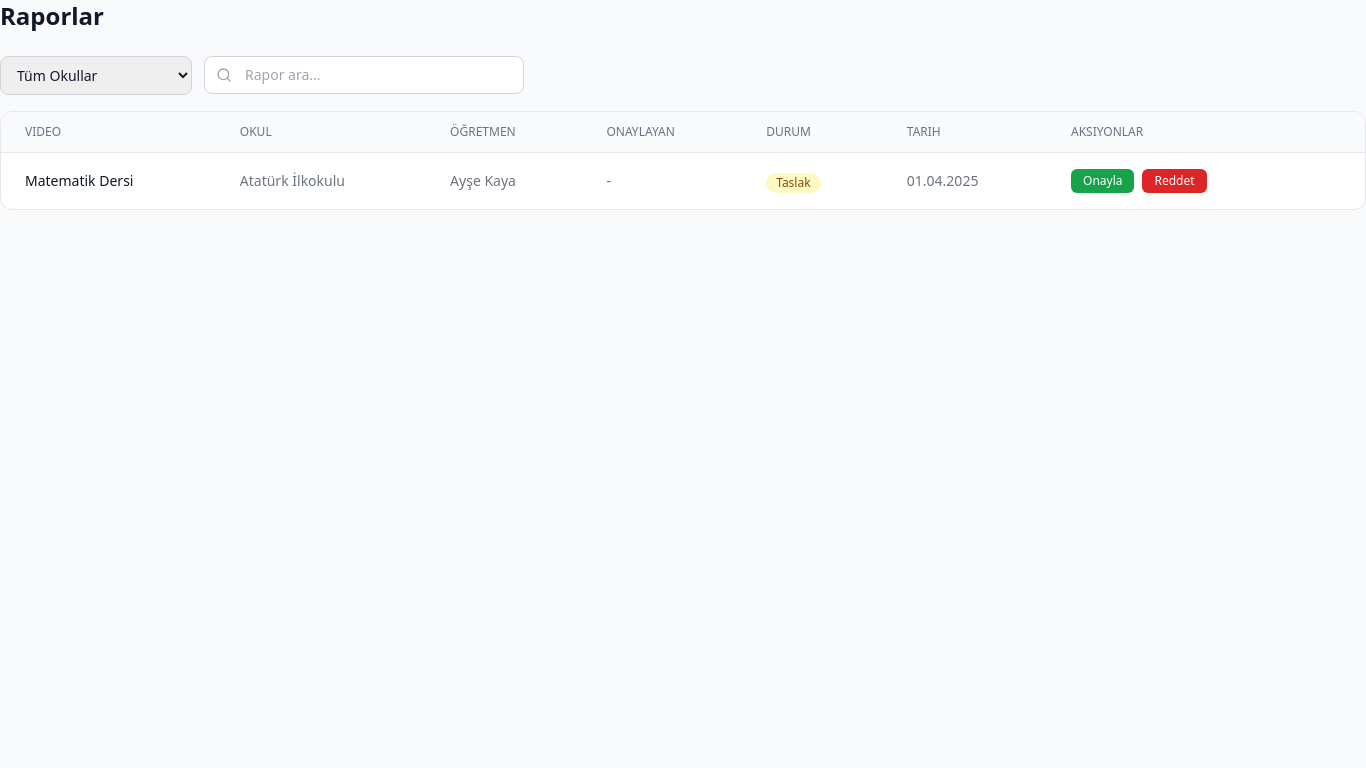
Scenario: ReportsPage › Reddet modalı › Reddet butonuna tıklayınca modal açılır
The image size is (1366, 768).
Click the button "Reddet" at (1175, 181), box left=1142, top=169, right=1207, bottom=193
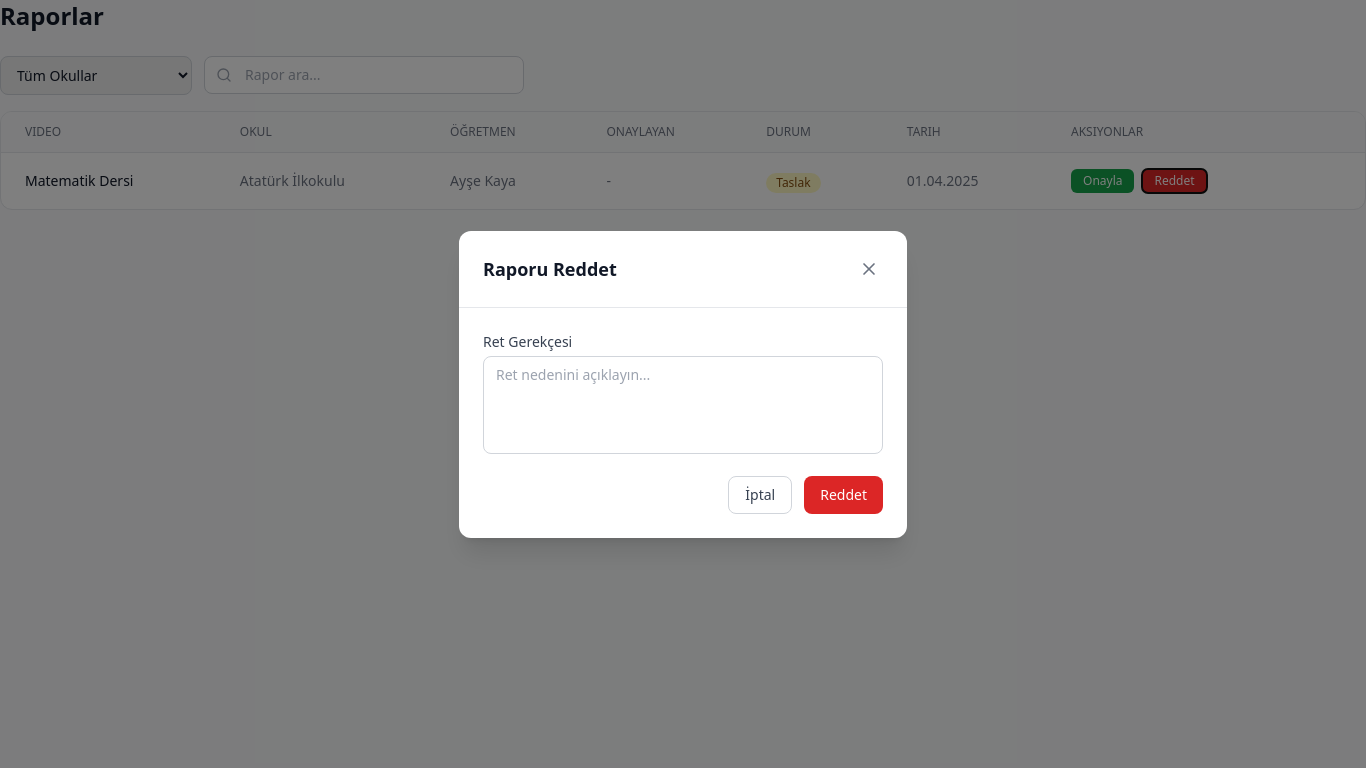
expect the heading "Raporu Reddet" is shown: met, box left=483, top=254, right=617, bottom=282
expect the text box labelled "Ret Gerekçesi" is shown: met, box left=483, top=356, right=883, bottom=454
